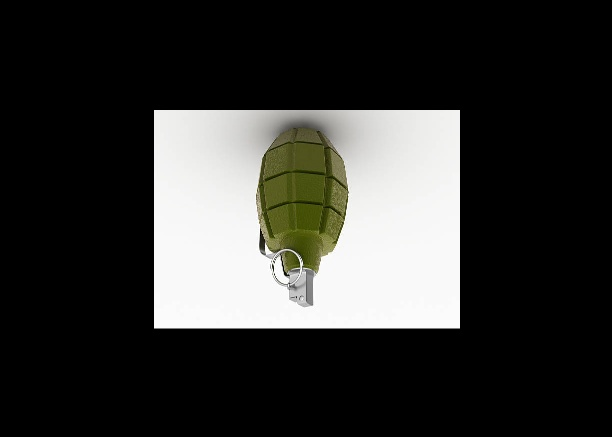e1: (249, 125, 349, 308)
